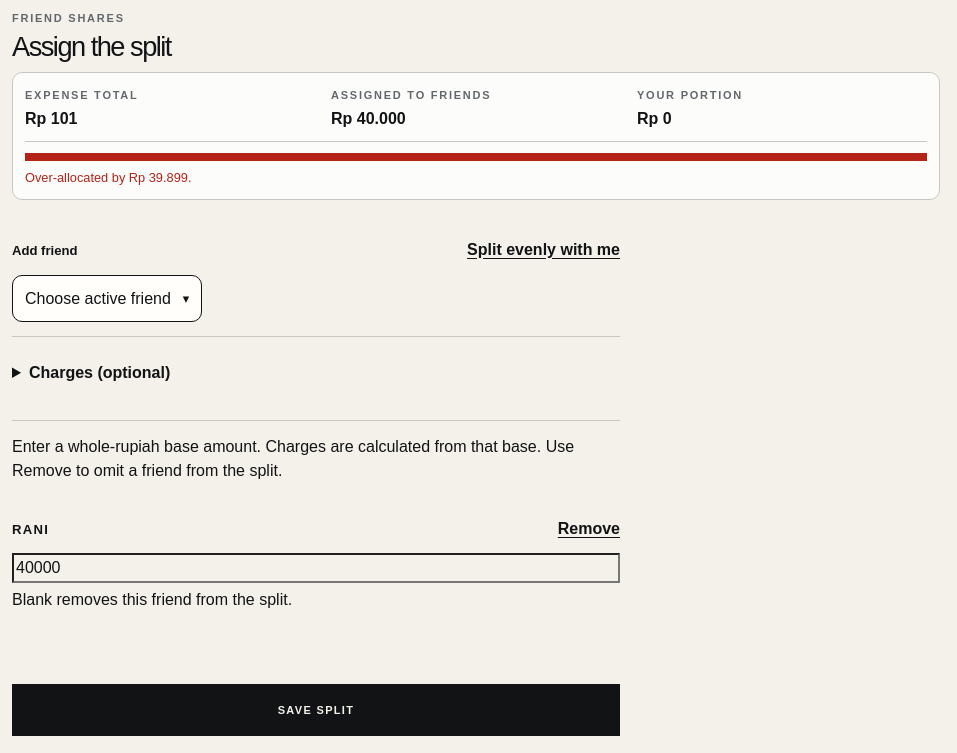
Test: expense share editor › splits evenly across one friend and the owner
The width and height of the screenshot is (957, 753).
Click the button "Split evenly with me" at [544, 250], box [467, 230, 620, 270]
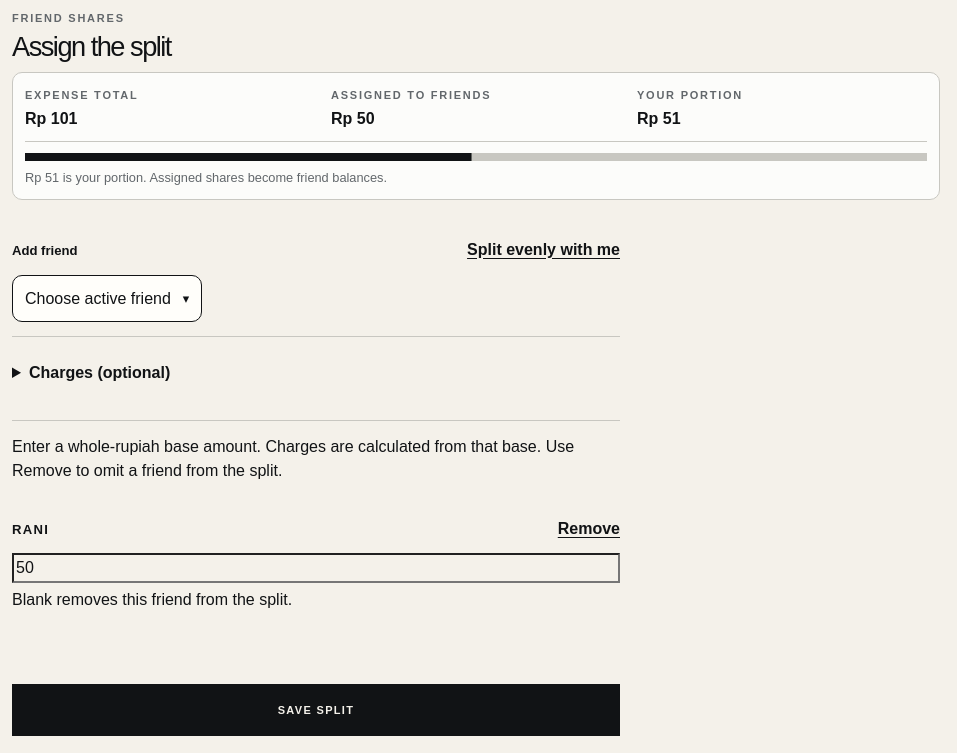
Now the field labelled "Rani" holds "50", box [12, 553, 620, 583]
Now the text "Rp 51 is your portion." is shown, box [25, 170, 387, 185]
